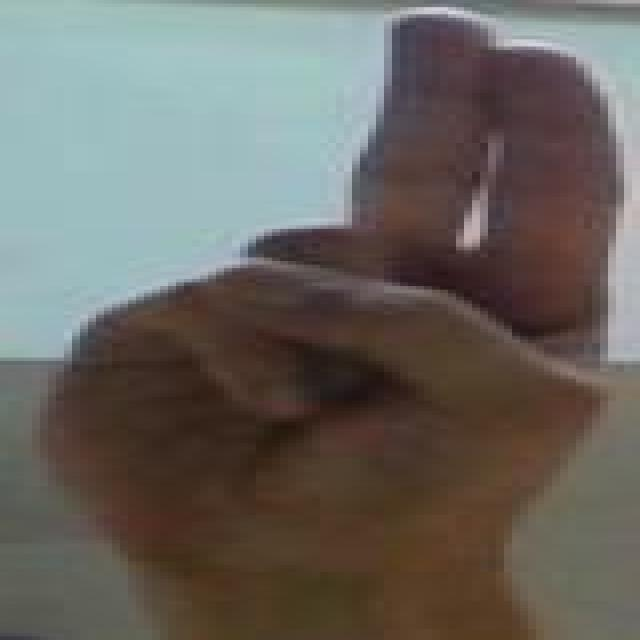U: (16, 2, 640, 563)
